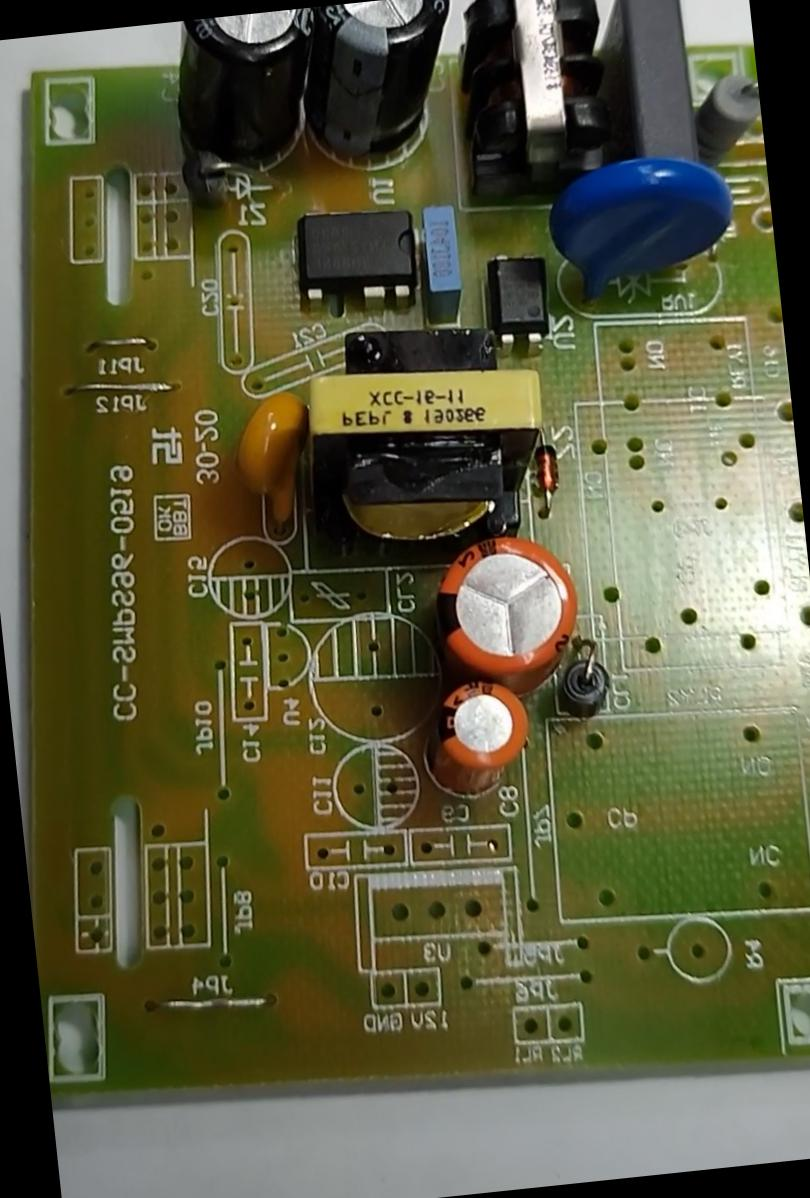Cap1: (411, 515, 596, 708)
Cap2: (400, 663, 558, 820)
Cap3: (301, 0, 468, 188)
Cap4: (160, 6, 346, 206)
MOSFET: (272, 188, 434, 329)
Mov: (529, 142, 762, 337)
Resistor: (674, 66, 765, 176)
Transformer: (262, 301, 583, 597), (432, 0, 663, 221)
